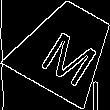M_NE: (31, 16, 100, 83)
